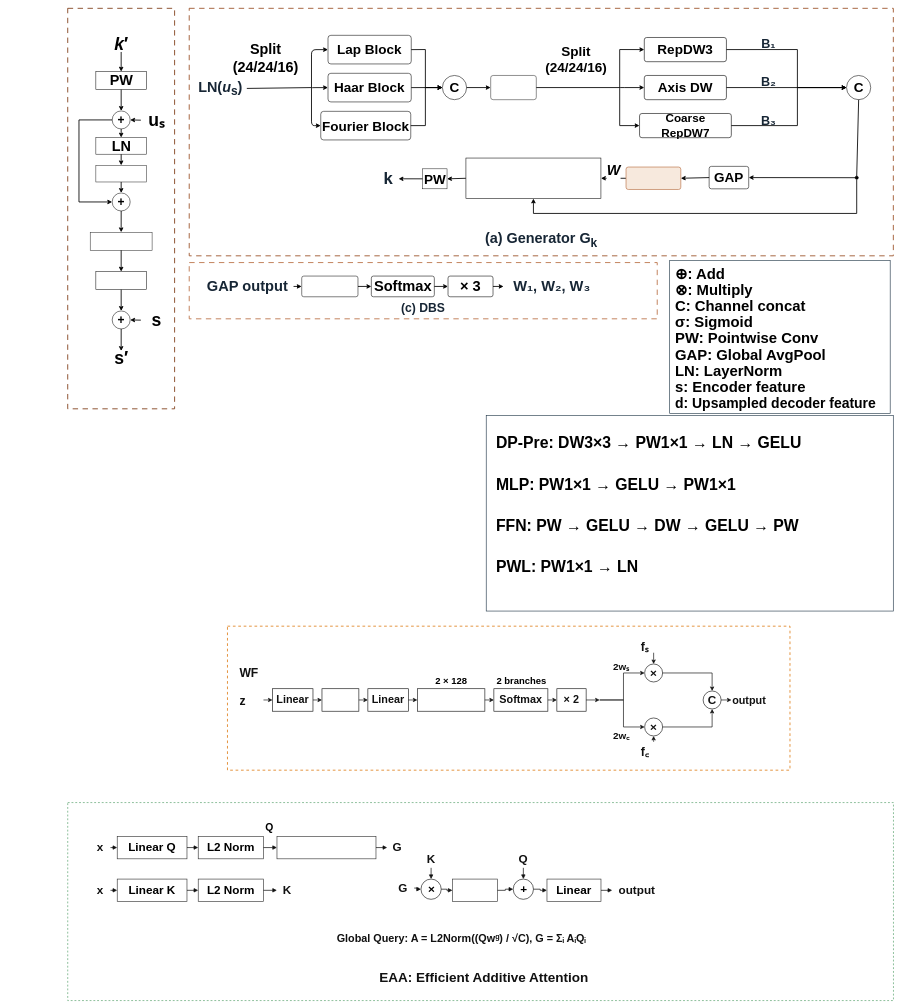
This 901x1008 diagram has some shape labels left out. The box of each missing label's shape, as (x1, y1, x2, y2) in pixels:
Concat(B₁ ⊙ W₁, B₂ ⊙ W₂, B₃ ⊙ W₃): (465, 158, 601, 199)
DBS: (626, 166, 681, 190)
DP-Pre: (90, 232, 152, 250)
FFN: (95, 165, 147, 182)
GELU: (321, 688, 359, 711)
Global Query: (276, 836, 376, 859)
MLP: (301, 276, 358, 297)
Proj: (452, 879, 498, 902)
PWL: (490, 75, 536, 100)
Reshape: (417, 688, 485, 711)
× γ: (95, 271, 147, 290)
